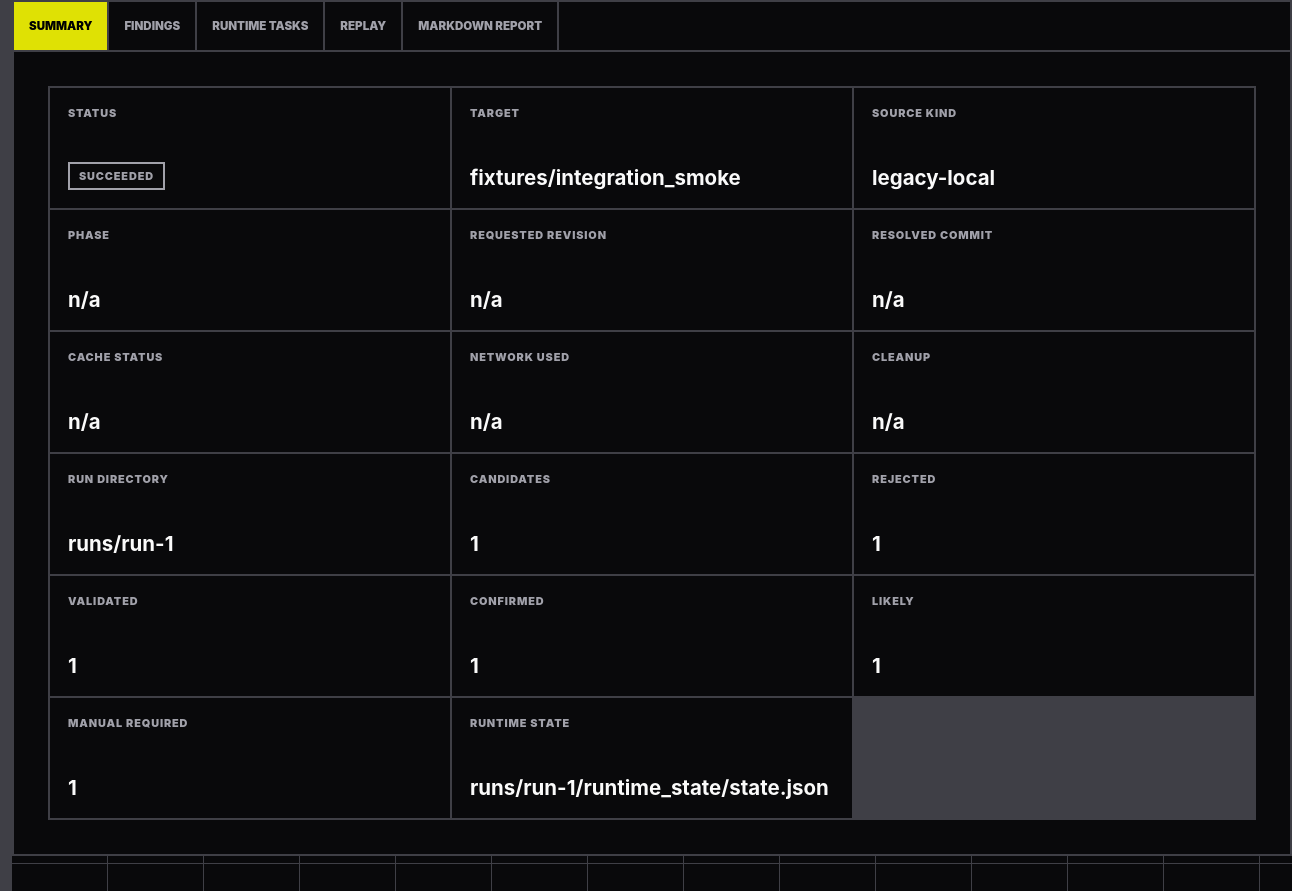
Test case: RunDetailTabs › shows verification status distribution and candidate evidence
Expected: the text "Confirmed" is shown, [470, 594, 544, 608]
Expected: the text "Manual required" is shown, [68, 716, 188, 730]
What coordinates should you click on to do the following:
click the tab "Findings"
I would click on:
 (153, 26)
Its box is [109, 2, 197, 50].
(page scrolled)
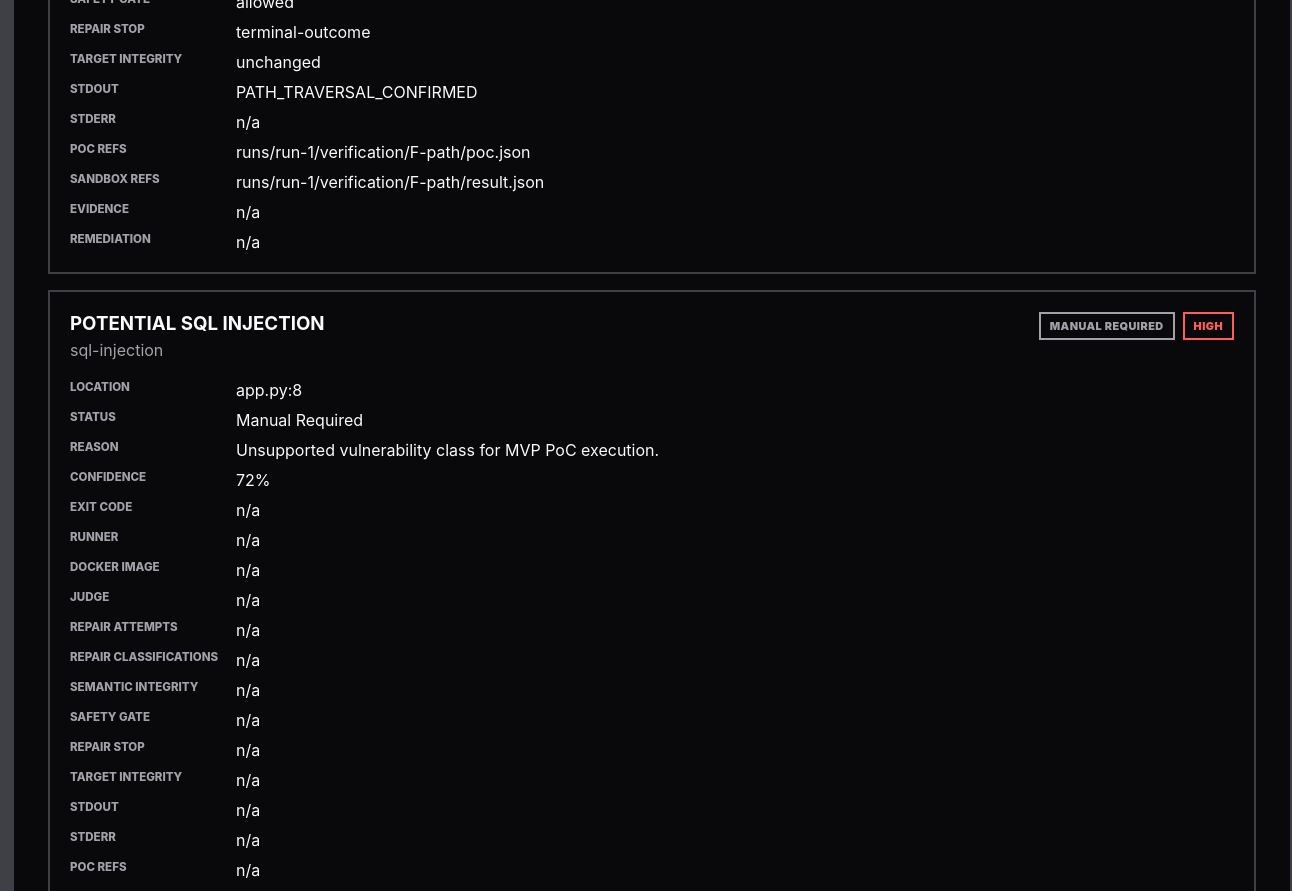
Expected: the text "PATH_TRAVERSAL_CONFIRMED" is shown, [236, 82, 478, 102]
Expected: the text "unchanged" is shown, [236, 52, 321, 72]
Expected: the text "terminal-outcome" is shown, [236, 22, 370, 42]
